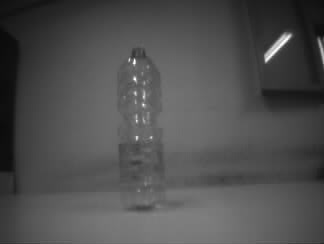Bottle: (114, 42, 168, 210)
